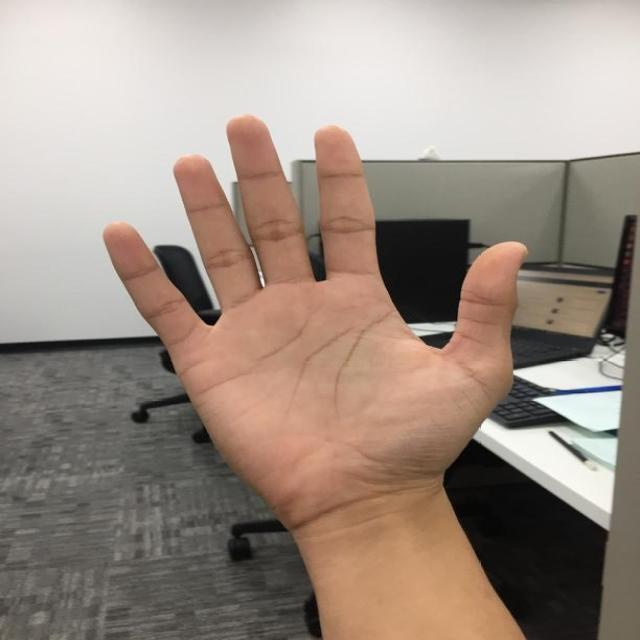hand: (99, 110, 531, 506)
